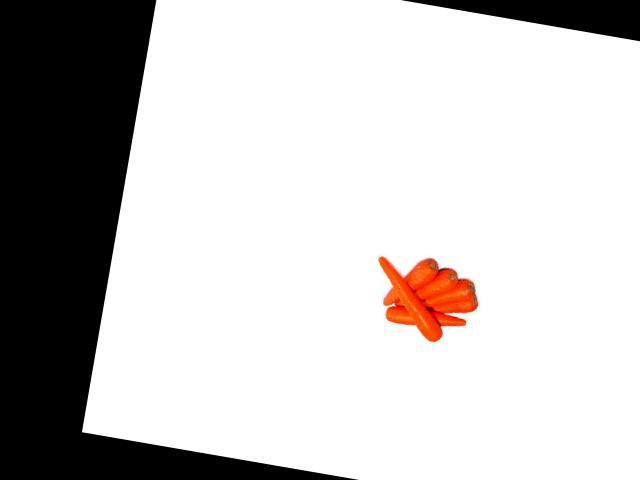carrot: (375, 244, 438, 313)
